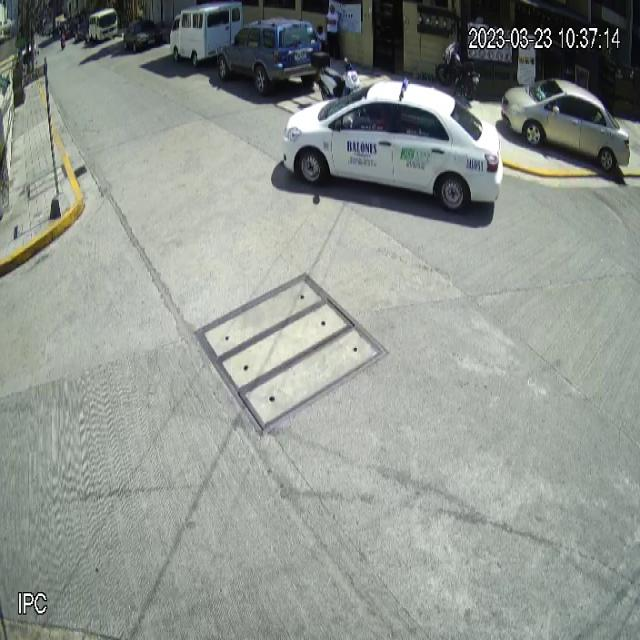Car: (280, 77, 506, 216), (500, 76, 631, 175), (216, 17, 322, 98)
Motorcycle: (310, 48, 364, 96)
Van: (169, 1, 245, 67)
